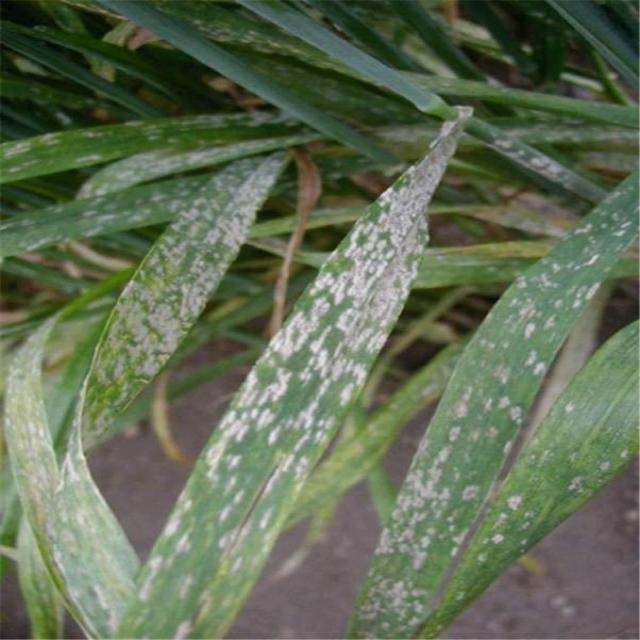wheat-powdery-mildew: (104, 127, 456, 640), (347, 180, 631, 639), (428, 338, 637, 634), (80, 157, 291, 450), (0, 114, 299, 181), (480, 126, 608, 194)
